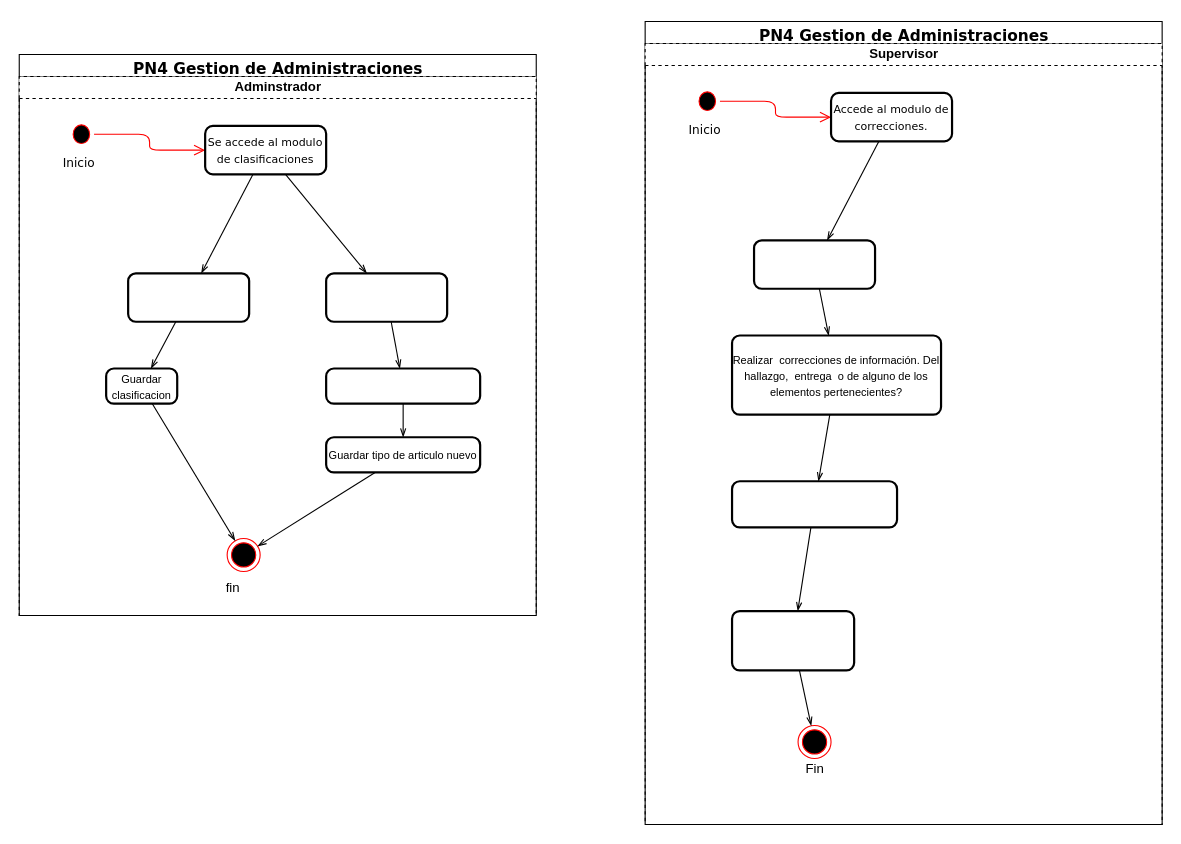
This 1181x844 diagram has some shape labels left out. The shapes that lost their labels are listed below. From the top down, each one's centre as x and y in pixels, then its label:
At (814,264): "Buscar hallago o entrega especifica".
At (188,297): "Agregar nueva clasificacion / tipo de articulo".
At (386,297): "Seleccionar clasificacion existente".
At (402,385): "Proporciona nombre y descripción del tipo de artículo.".
At (814,504): "Realizar Correciones de los hallazgos".
At (792,640): "Guardar cambios".
